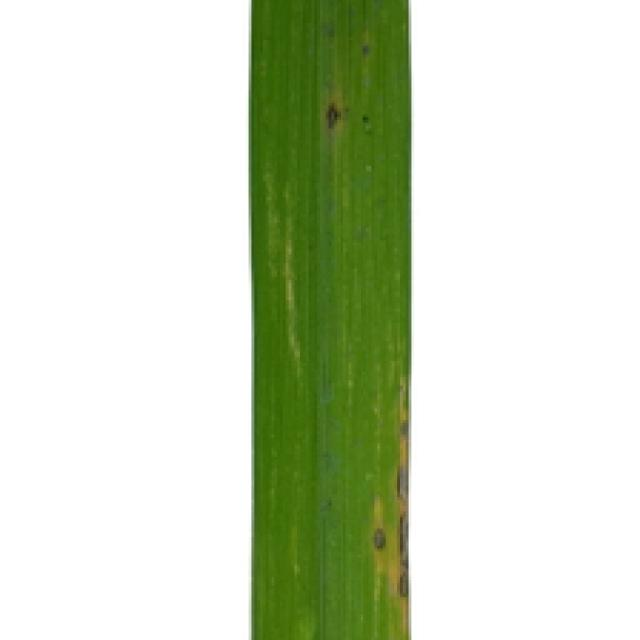Rice___Brown_Spot: (247, 0, 414, 637)
